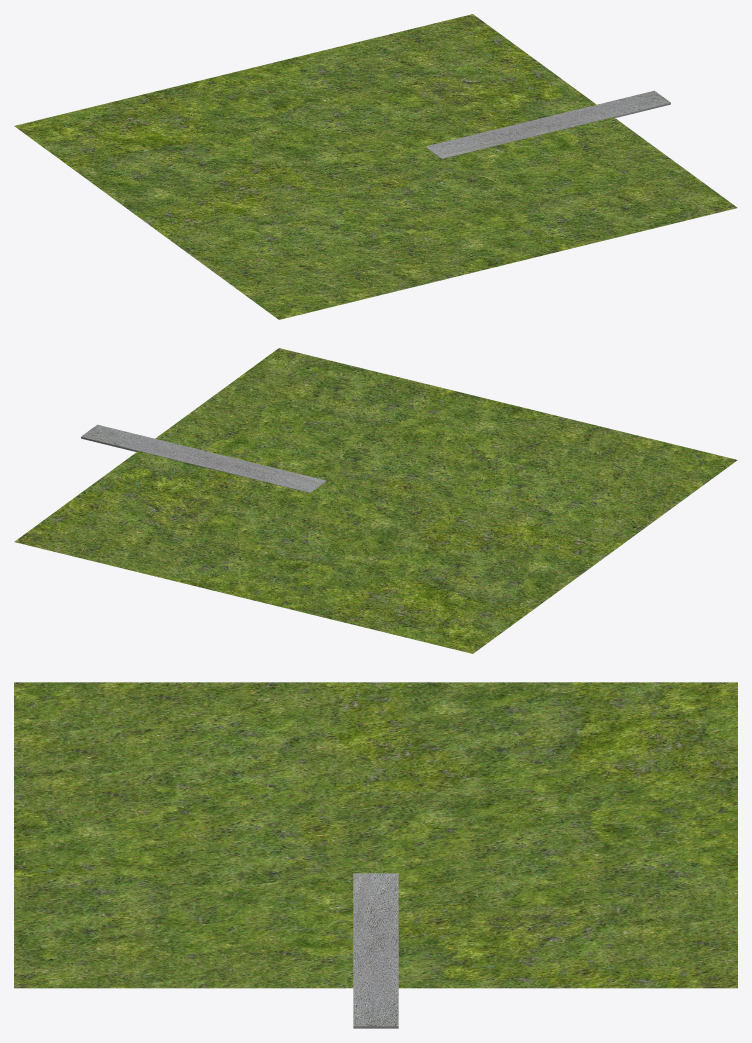
The model's file is piso.obj.
3 renders of one model, top to bottom at view 1: azimuth 30°, elevation 25°; view 2: azimuth 150°, elevation 25°; view 3: azimuth 270°, elevation 25°, orthographic. The views are drawn at different scales.
Parts seen in each view (by area): view 1: pPlane1, pCube39; view 2: pPlane1, pCube39; view 3: pPlane1, pCube39.
Part boxes in pixels (x1,y1,x2,y2): pPlane1: (14, 14, 737, 319); pCube39: (425, 90, 670, 158); pPlane1: (14, 348, 737, 653); pCube39: (81, 424, 326, 492); pPlane1: (14, 682, 737, 988); pCube39: (353, 873, 398, 1028).
Size of the model in its own units: 90 by 0.3 by 80.
Materials: 2 (2 with a texture image).
